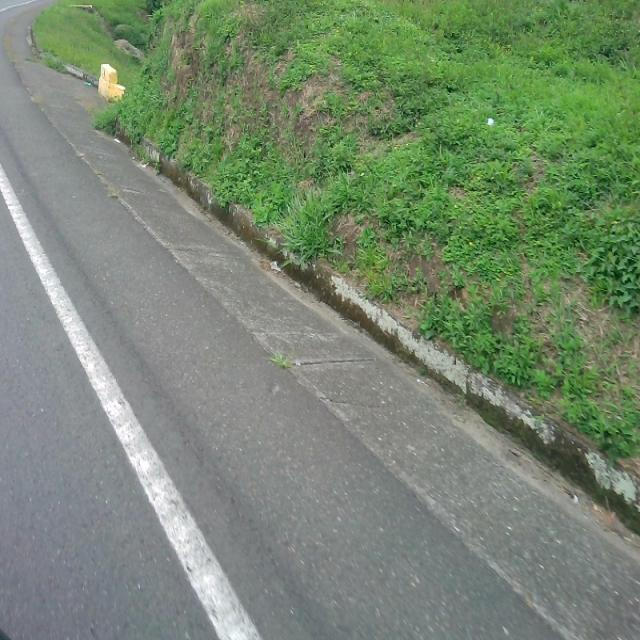DITCH: (2, 1, 638, 638), (16, 71, 638, 638), (7, 81, 638, 638)
